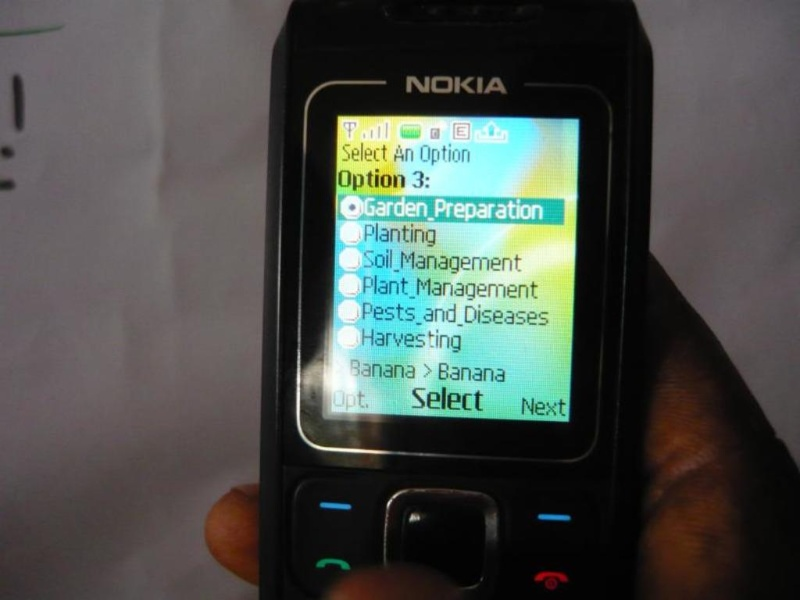cellphone: (284, 12, 606, 600)
